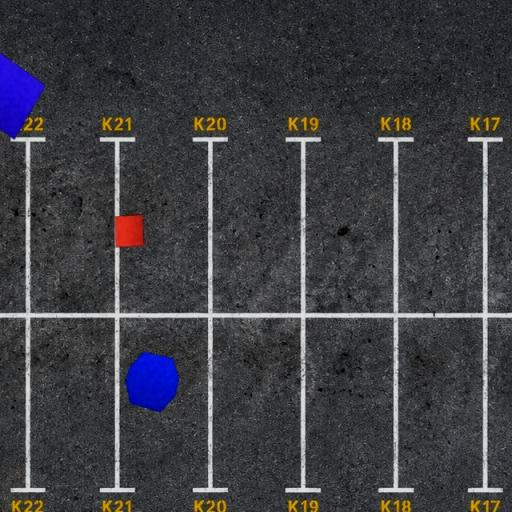BLUE_SQUARE: (0, 51, 46, 140)
RED_SQUARE: (114, 214, 145, 248)
